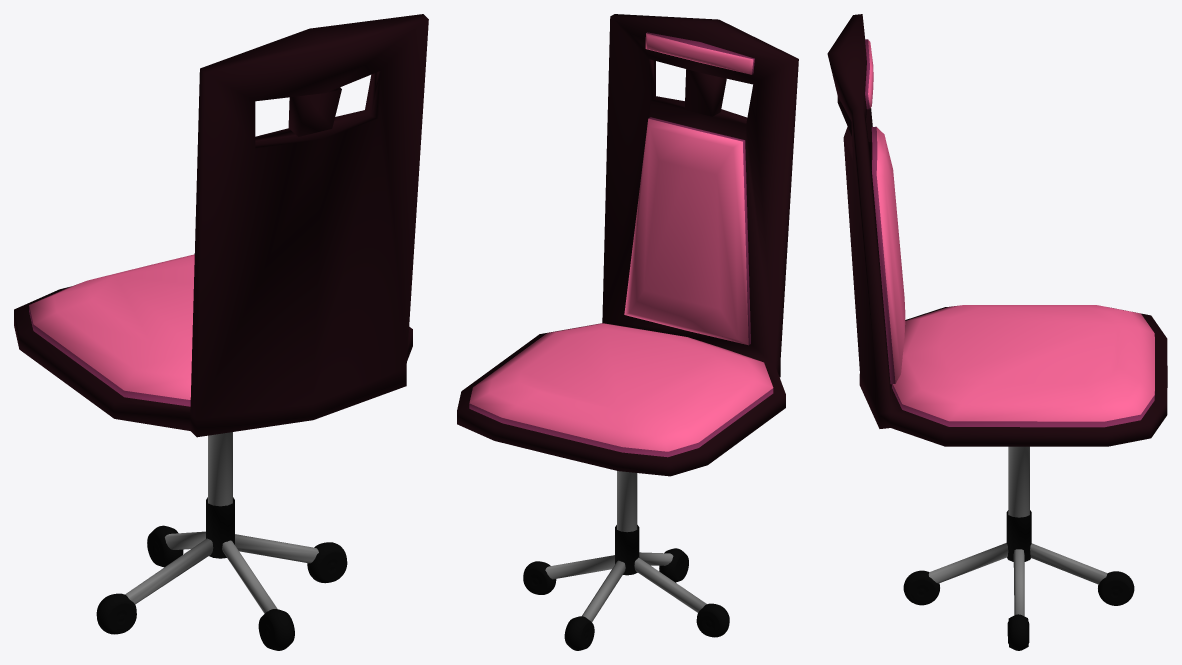
File: chair.fbx
3 renders of one model, left to right at view 1: azimuth 30°, elevation 25°; view 2: azimuth 150°, elevation 25°; view 3: azimuth 270°, elevation 25°, orthographic. The views are drawn at different scales.
Visible parts, largest first — view 1: Circle.001; view 2: Circle.001; view 3: Circle.001.
Part boxes in pixels (bbox=[...]): Circle.001: bbox=[14, 14, 428, 650]; Circle.001: bbox=[457, 14, 798, 650]; Circle.001: bbox=[827, 14, 1167, 650].
Size of the model in its own units: 200 by 412 by 229.
